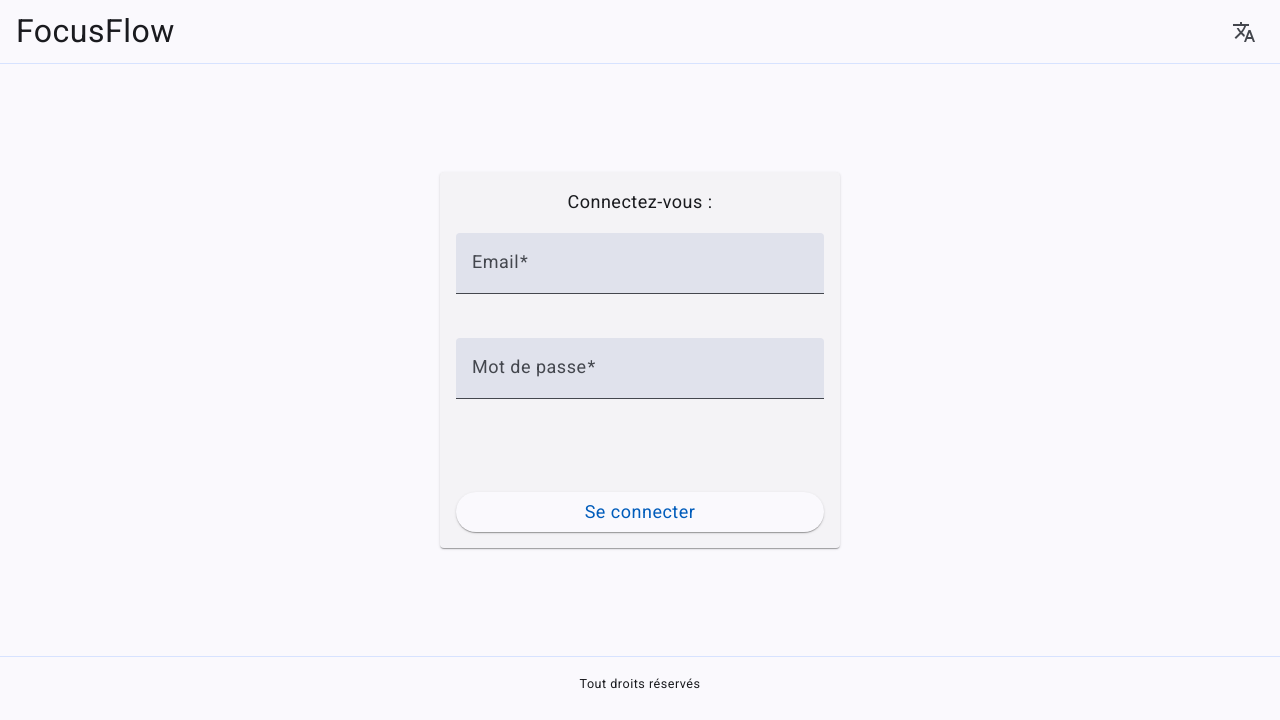
Scenario: Login Page Tests › should display error when invalid email pattern
Type "wrongemail.com" into the field with test id "login-email" at (640,272), box x1=472 y1=257 x2=808 y2=286
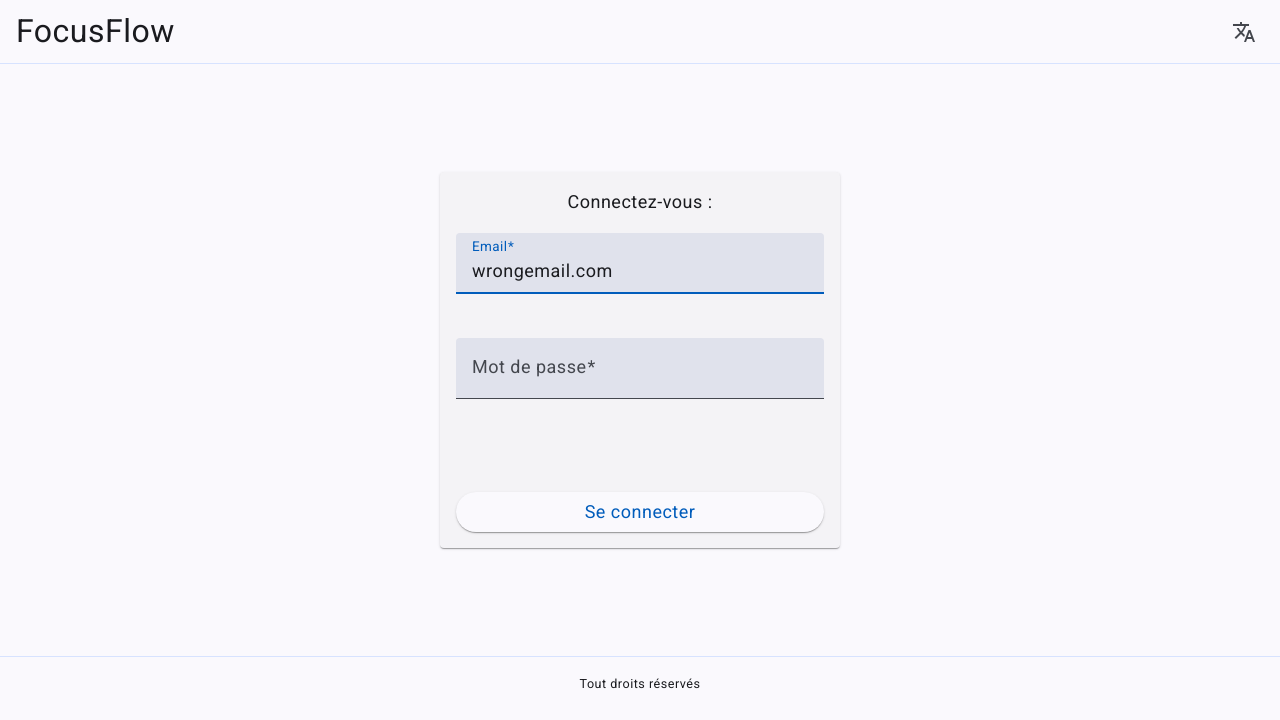
Leave the field with test id "login-email", box x1=472 y1=257 x2=808 y2=286
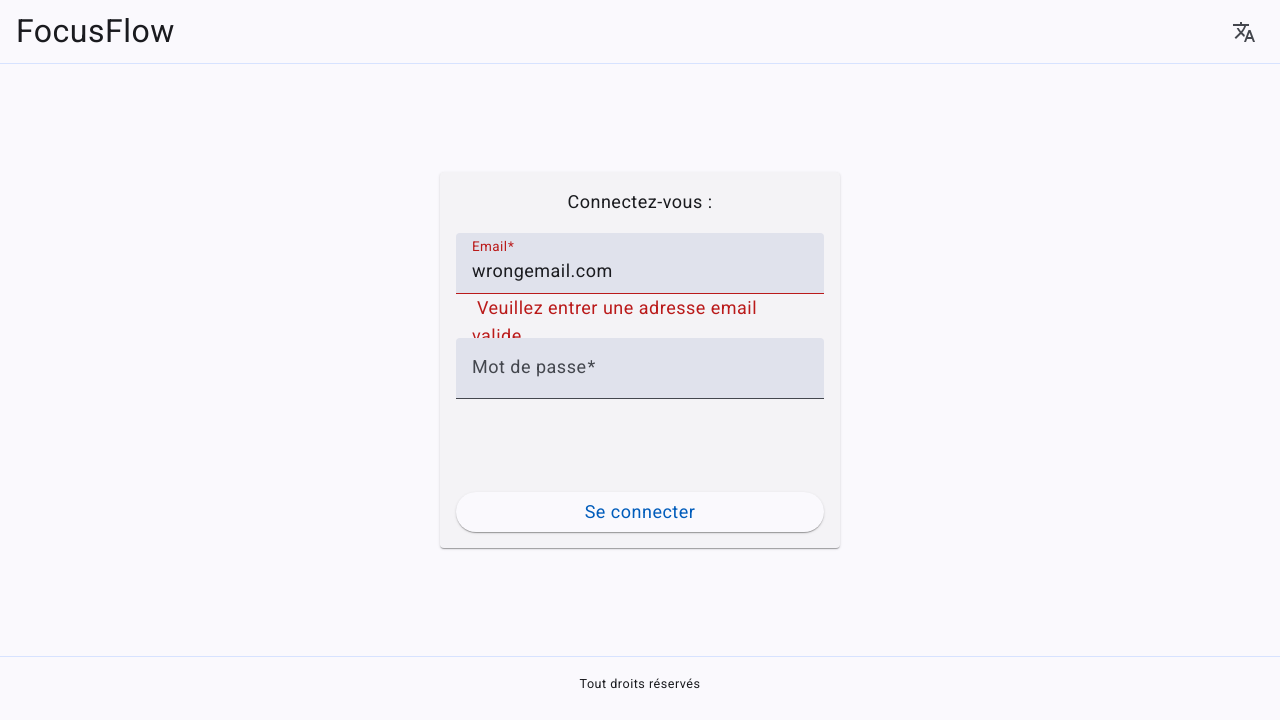
Now the text "Veuillez entrer une adresse email valide" is shown, box x1=472 y1=297 x2=757 y2=346
